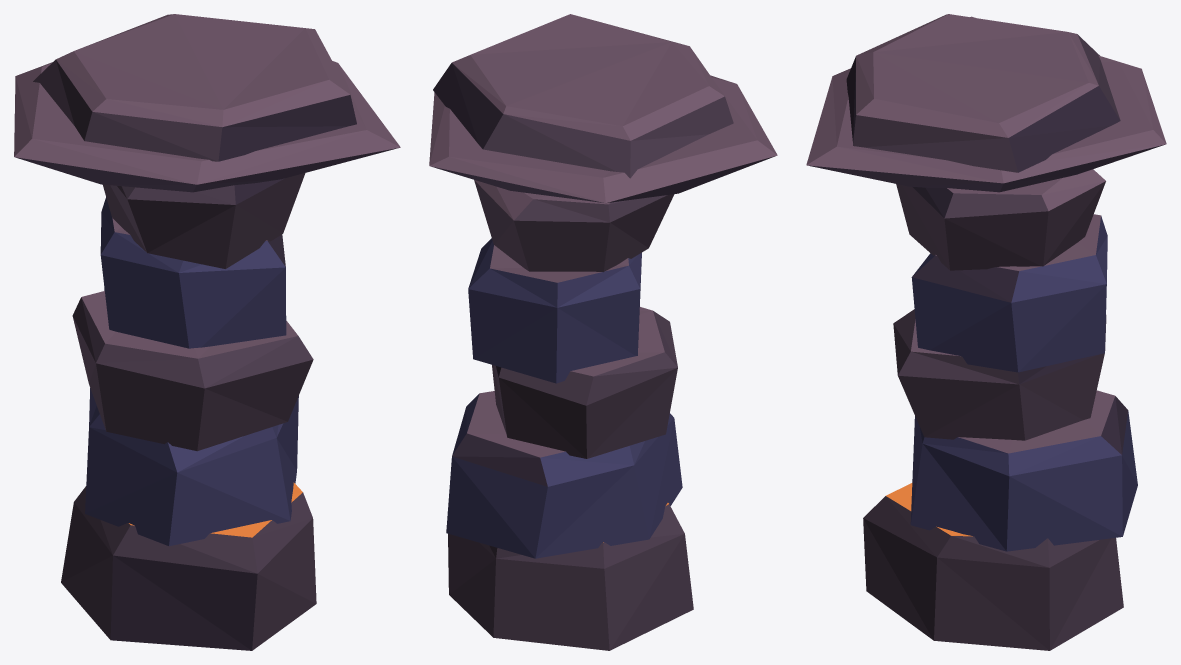
The model's file is rock_pillar_vent.fbx.
3 renders of one model, left to right at view 1: azimuth 30°, elevation 25°; view 2: azimuth 150°, elevation 25°; view 3: azimuth 270°, elevation 25°, orthographic. The views are drawn at different scales.
Visible parts, largest first — view 1: rock_pillar_vent; view 2: rock_pillar_vent; view 3: rock_pillar_vent.
Boxes of the visible parts, left/top/right/bottom form: rock_pillar_vent: left=14, top=14, right=400, bottom=650; rock_pillar_vent: left=429, top=14, right=777, bottom=650; rock_pillar_vent: left=806, top=14, right=1166, bottom=650.
Bounding box in the file's own units: 1438 × 2219 × 1355.
Materials: 1 (1 with a texture image).
